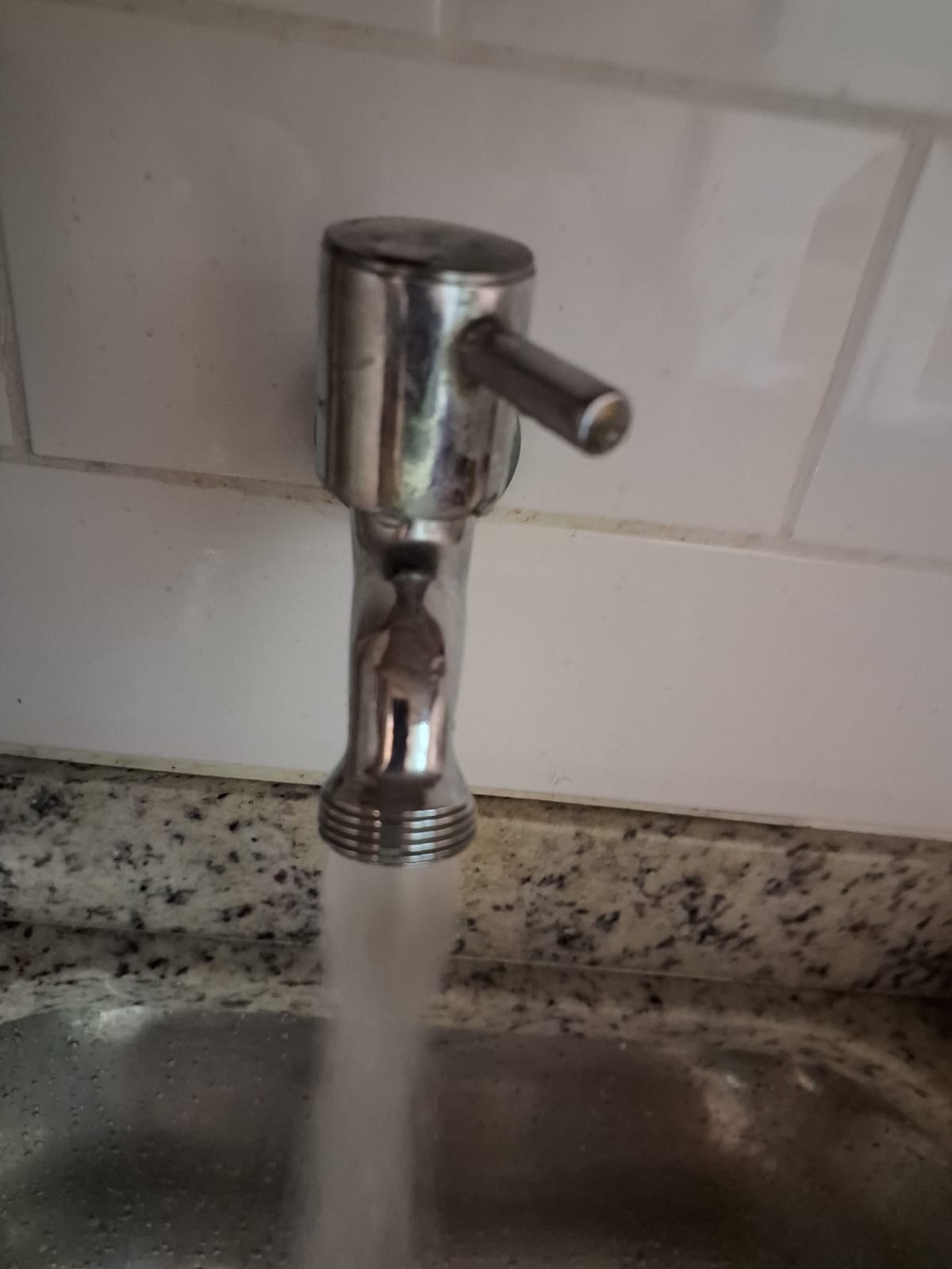torneira_aberta: (227, 177, 656, 1263)
